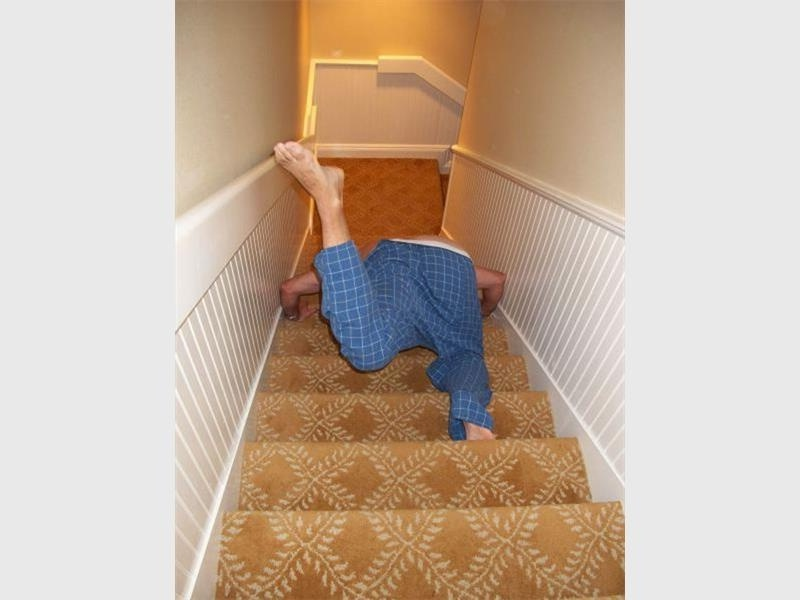fall: (264, 139, 511, 451)
